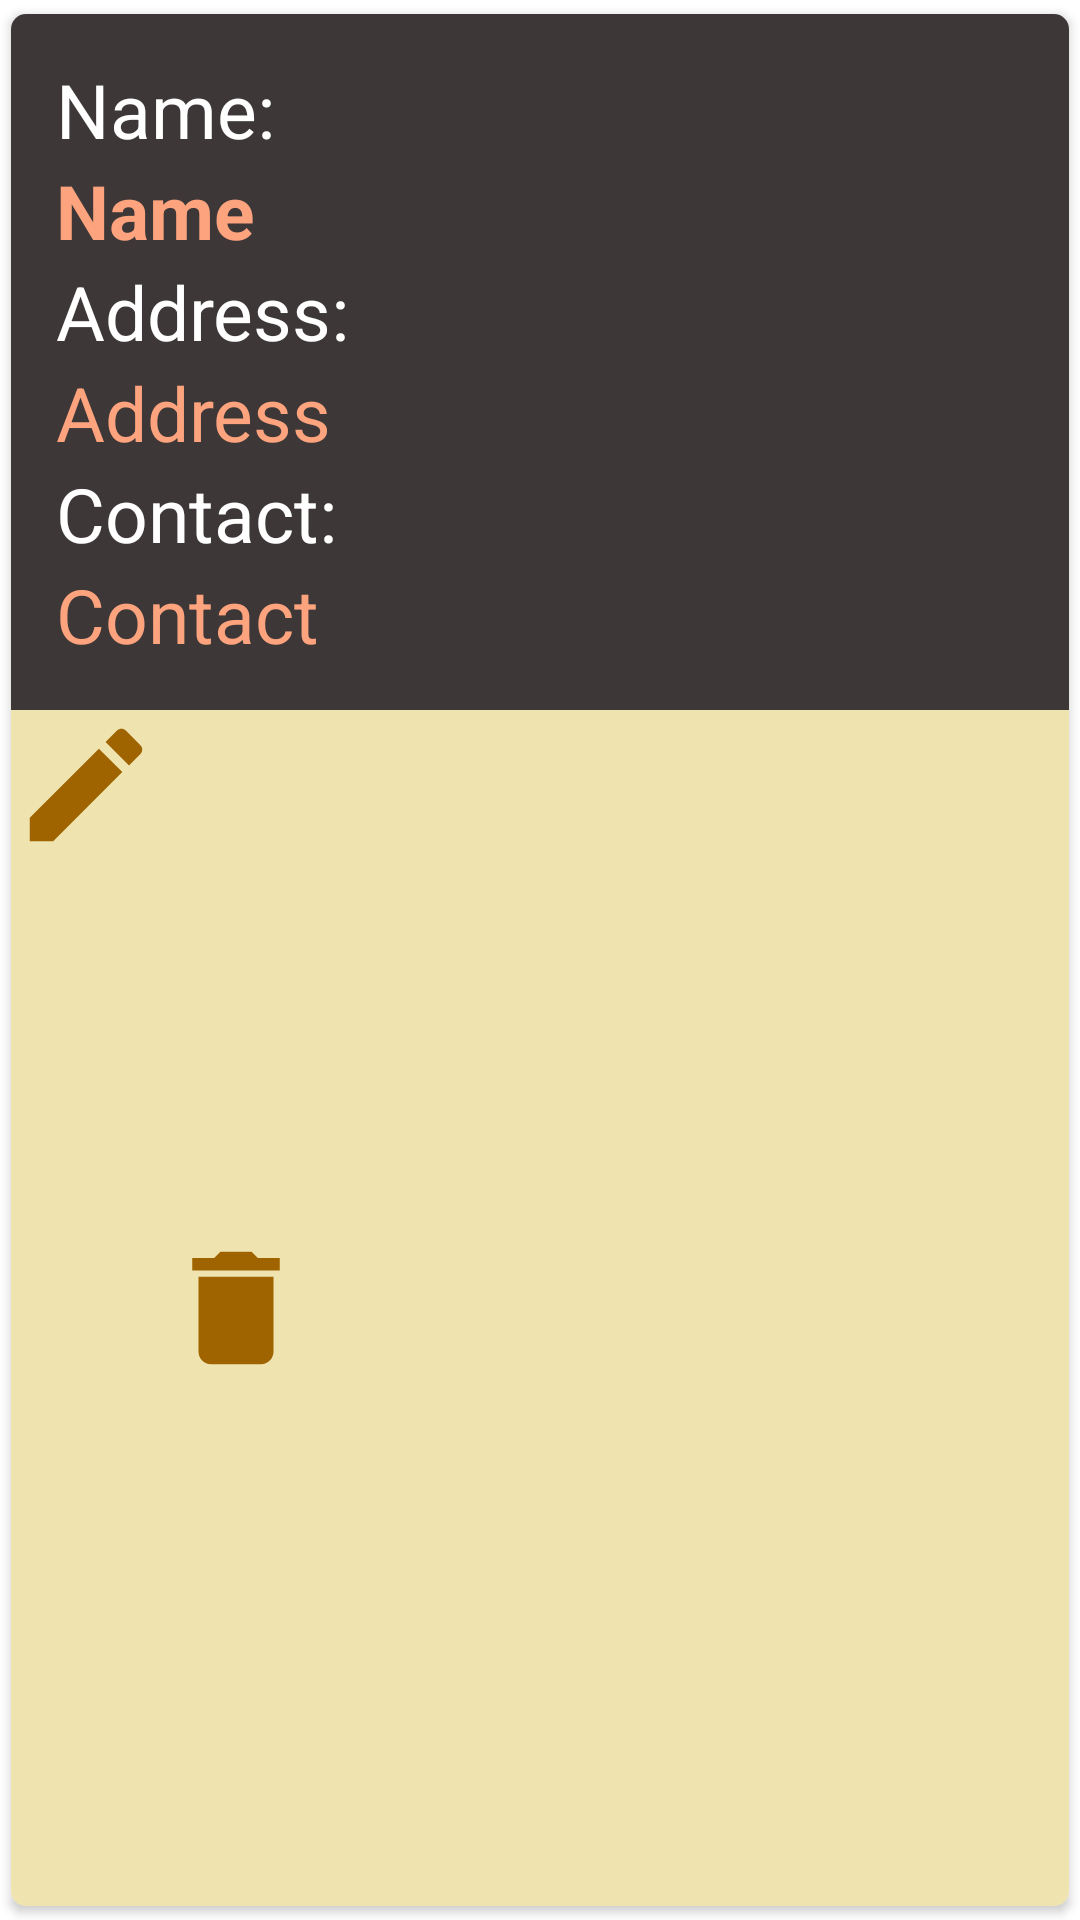

Icon click points for this 1080 x 1920 phone screenshot, format [x,y]:
delete: [236,1308]
